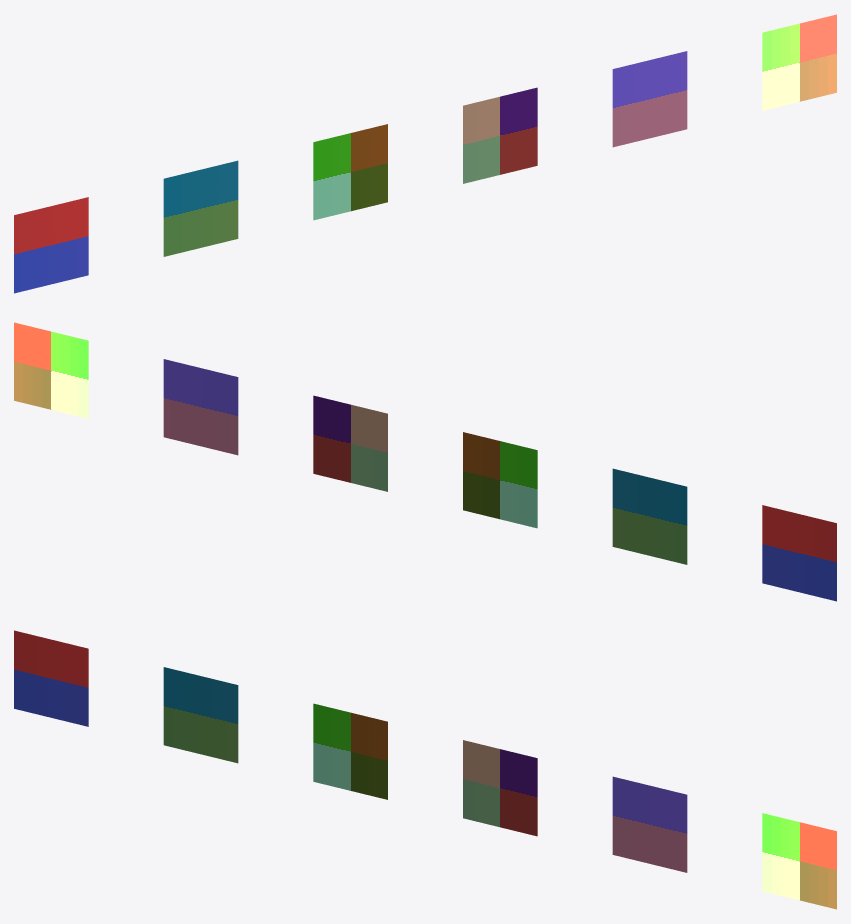
File: occupancy.gltf
3 views of the same model, one above another, from view 1: azimuth 30°, elevation 25°; view 2: azimuth 150°, elevation 25°; view 3: azimuth 330°, elevation 25° (orthographic).
Parts seen in each view (by area): view 1: Linear, TwoSlots, Nearest, AllSlots, Transform, Repeat; view 2: Linear, TwoSlots, Nearest, AllSlots, Transform, Repeat; view 3: Linear, TwoSlots, Nearest, AllSlots, Transform, Repeat.
Part boxes in pixels (x1=…): Linear: x1=163, y1=160, x2=238, y2=256; TwoSlots: x1=612, y1=51, x2=687, y2=147; Nearest: x1=14, y1=197, x2=88, y2=293; AllSlots: x1=762, y1=14, x2=836, y2=110; Transform: x1=313, y1=124, x2=387, y2=220; Repeat: x1=463, y1=87, x2=537, y2=183; Linear: x1=612, y1=468, x2=687, y2=564; TwoSlots: x1=163, y1=359, x2=238, y2=455; Nearest: x1=762, y1=505, x2=836, y2=601; AllSlots: x1=14, y1=322, x2=88, y2=418; Transform: x1=463, y1=432, x2=537, y2=528; Repeat: x1=313, y1=395, x2=387, y2=491; Linear: x1=163, y1=667, x2=238, y2=763; TwoSlots: x1=612, y1=776, x2=687, y2=872; Nearest: x1=14, y1=630, x2=88, y2=726; AllSlots: x1=762, y1=813, x2=836, y2=909; Transform: x1=313, y1=703, x2=387, y2=799; Repeat: x1=463, y1=740, x2=537, y2=836.
Size of the model in its own units: 11 by 1 by 0.
6 materials, 6 textured.
